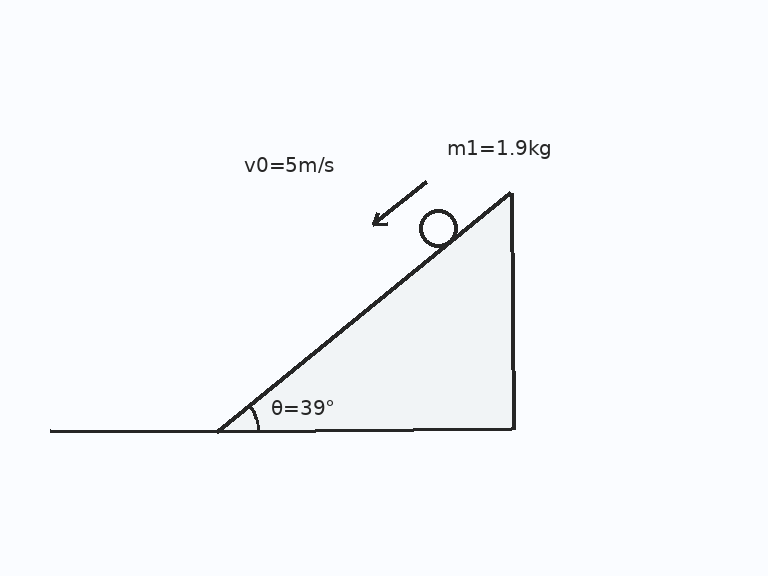ball: (417, 207, 459, 249)
ramp: (216, 190, 514, 432)
